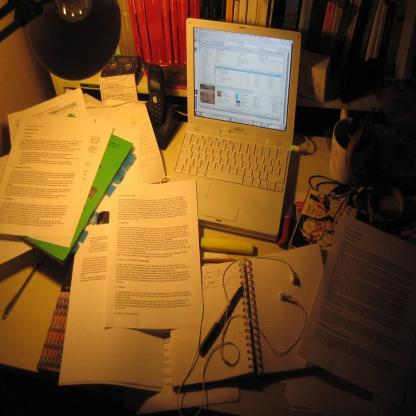board: (165, 17, 303, 242)
